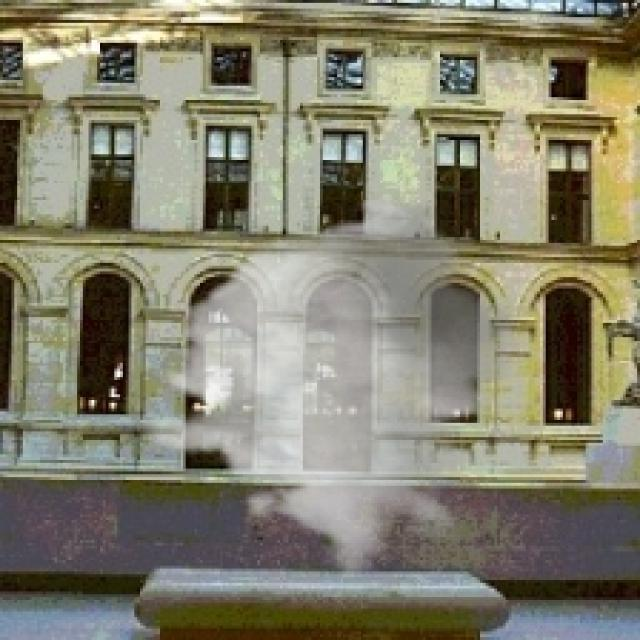Smoke: (134, 191, 532, 580)
